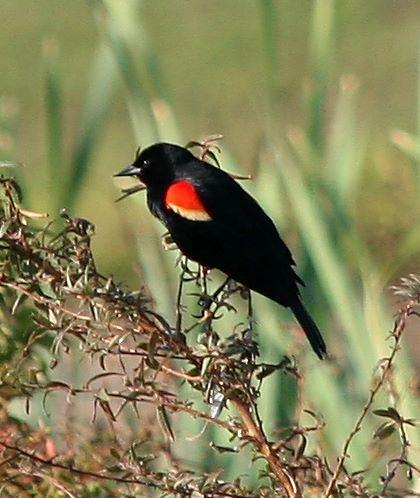010.Red_winged_Blackbird: (114, 141, 332, 362)
